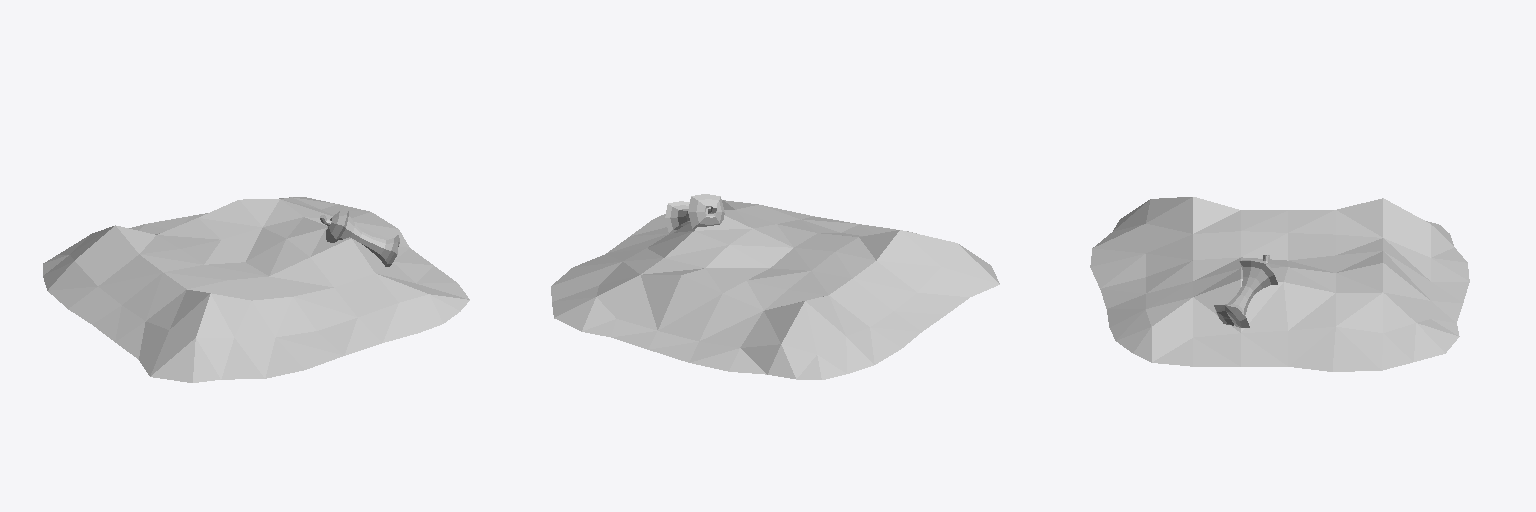
The model's file is garbageTiny.obj.
3 views of the same model, side by side, from view 1: azimuth 30°, elevation 25°; view 2: azimuth 150°, elevation 25°; view 3: azimuth 270°, elevation 25° (orthographic).
Visible parts, largest first — view 1: Garbage_Pile_Tiny_Cylinder.025; view 2: Garbage_Pile_Tiny_Cylinder.025; view 3: Garbage_Pile_Tiny_Cylinder.025.
Boxes of the visible parts, box(x1,y1,x2,y2) form: Garbage_Pile_Tiny_Cylinder.025: box(43, 197, 469, 382); Garbage_Pile_Tiny_Cylinder.025: box(551, 194, 999, 379); Garbage_Pile_Tiny_Cylinder.025: box(1090, 197, 1469, 371).
Size of the model in its own units: 2.46 by 0.4659 by 2.39.